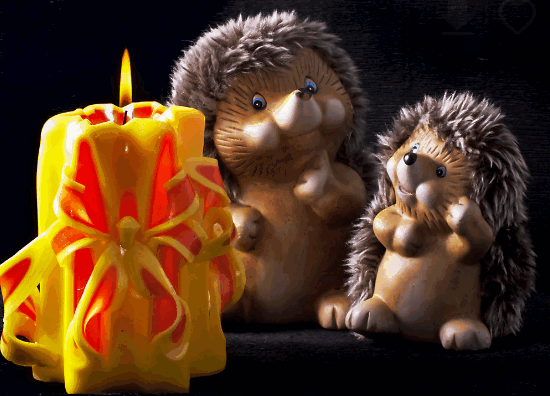Fire: (113, 41, 141, 111)
